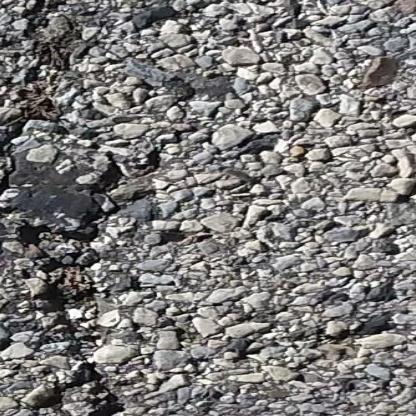Cracks: (0, 0, 133, 416)
